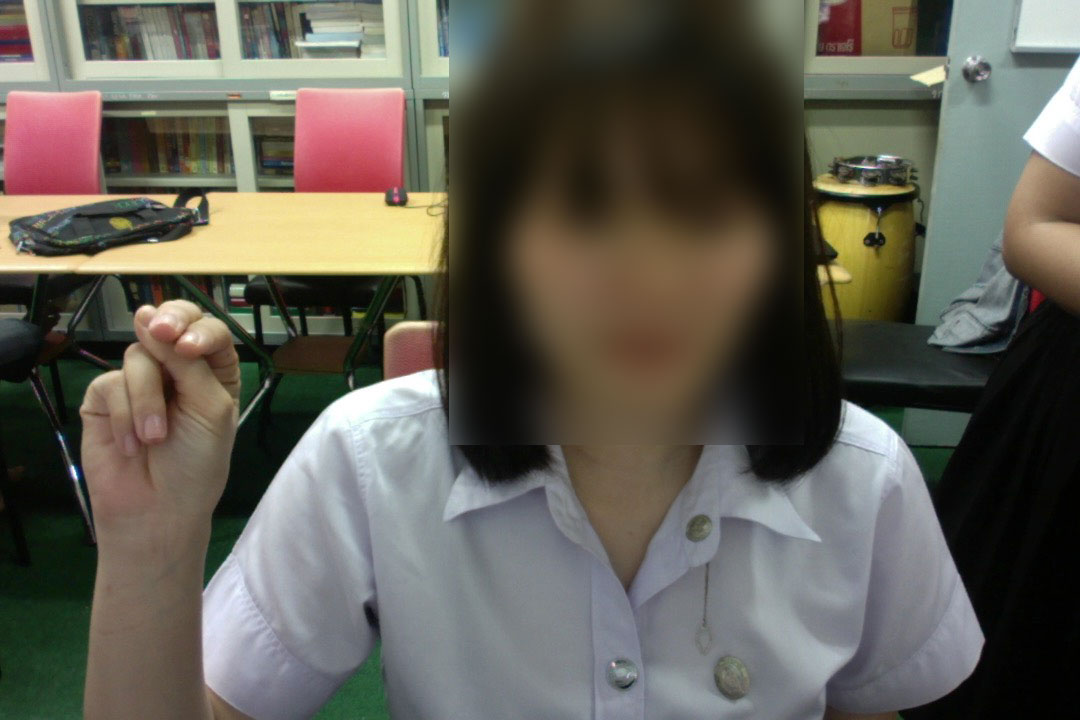nor: (73, 290, 246, 551)
